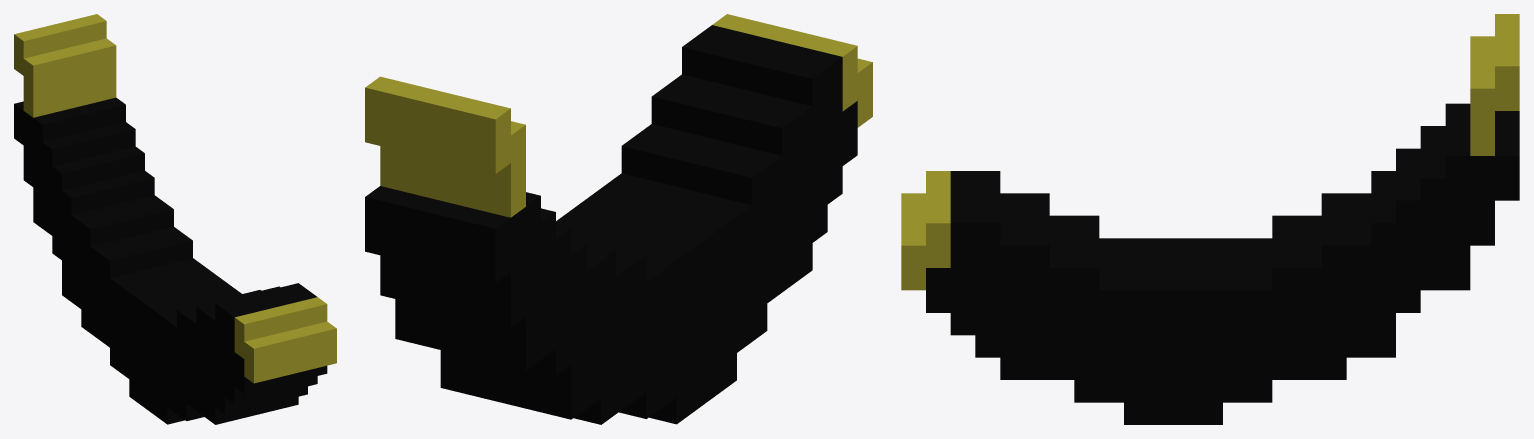
The model's file is banana.obj.
3 views of the same model, side by side, from view 1: azimuth 30°, elevation 25°; view 2: azimuth 150°, elevation 25°; view 3: azimuth 270°, elevation 25° (orthographic). The views are drawn at different scales.
Visible parts, largest first — view 1: banana; view 2: banana; view 3: banana.
Boxes of the visible parts, x1,y1,x2,y2 form: banana: [14, 14, 336, 424]; banana: [365, 14, 872, 424]; banana: [901, 14, 1519, 424].
Bounding box in the file's own units: 0.5 × 1.6 × 2.5.
